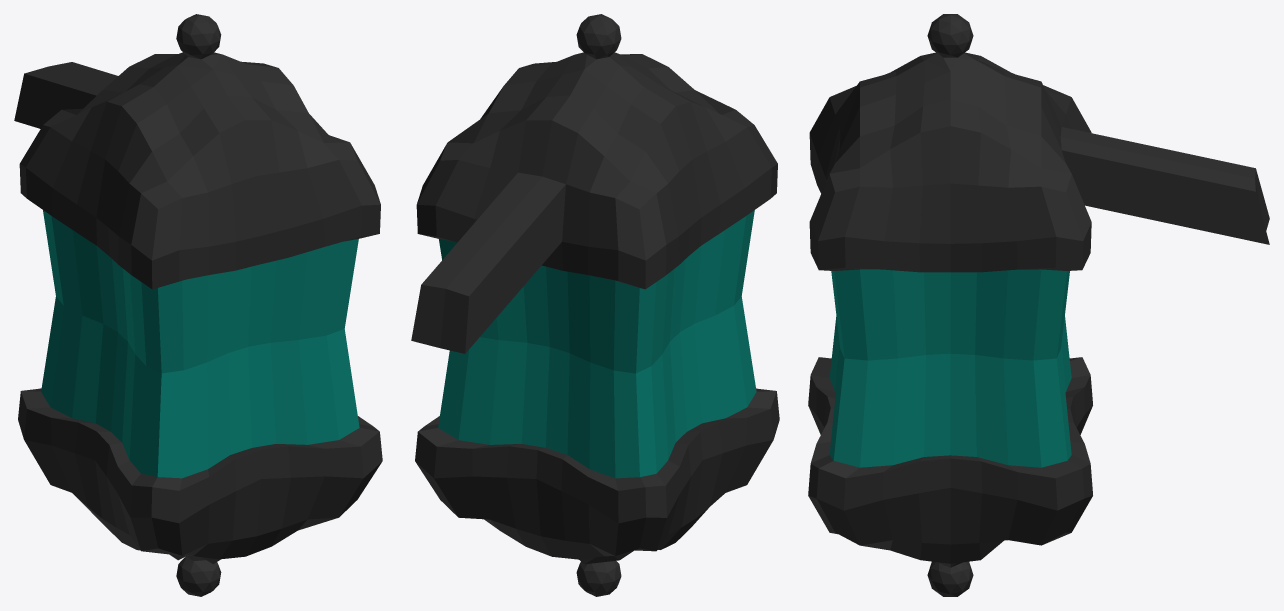
The model's file is lamp wall sconce.fbx.
3 renders of one model, left to right at view 1: azimuth 30°, elevation 25°; view 2: azimuth 150°, elevation 25°; view 3: azimuth 270°, elevation 25°, orthographic.
Parts seen in each view (by area): view 1: Cube, Cube.001; view 2: Cube, Cube.001; view 3: Cube, Cube.001.
Boxes of the visible parts, x1,y1,x2,y2 form: Cube: (14, 14, 382, 596); Cube.001: (41, 210, 359, 478); Cube: (411, 14, 779, 596); Cube.001: (438, 210, 756, 478); Cube: (808, 14, 1269, 596); Cube.001: (829, 269, 1071, 467).
Bounding box in the file's own units: 78.11 × 176 × 127.
